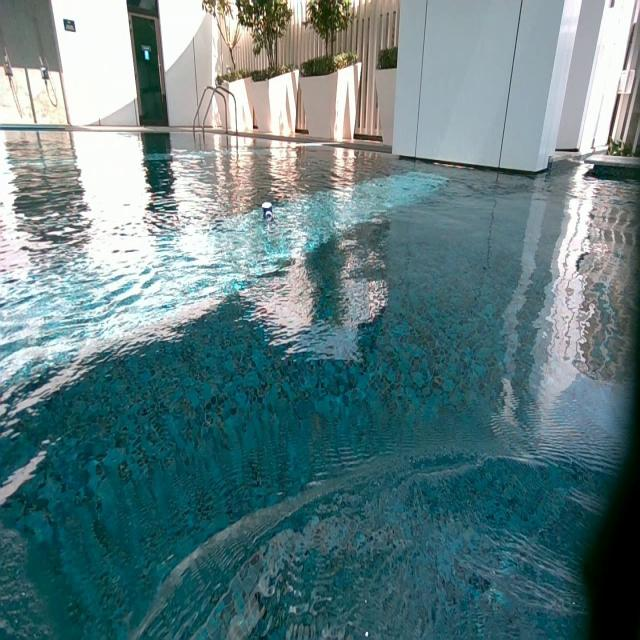Cans: (263, 204, 274, 218)
